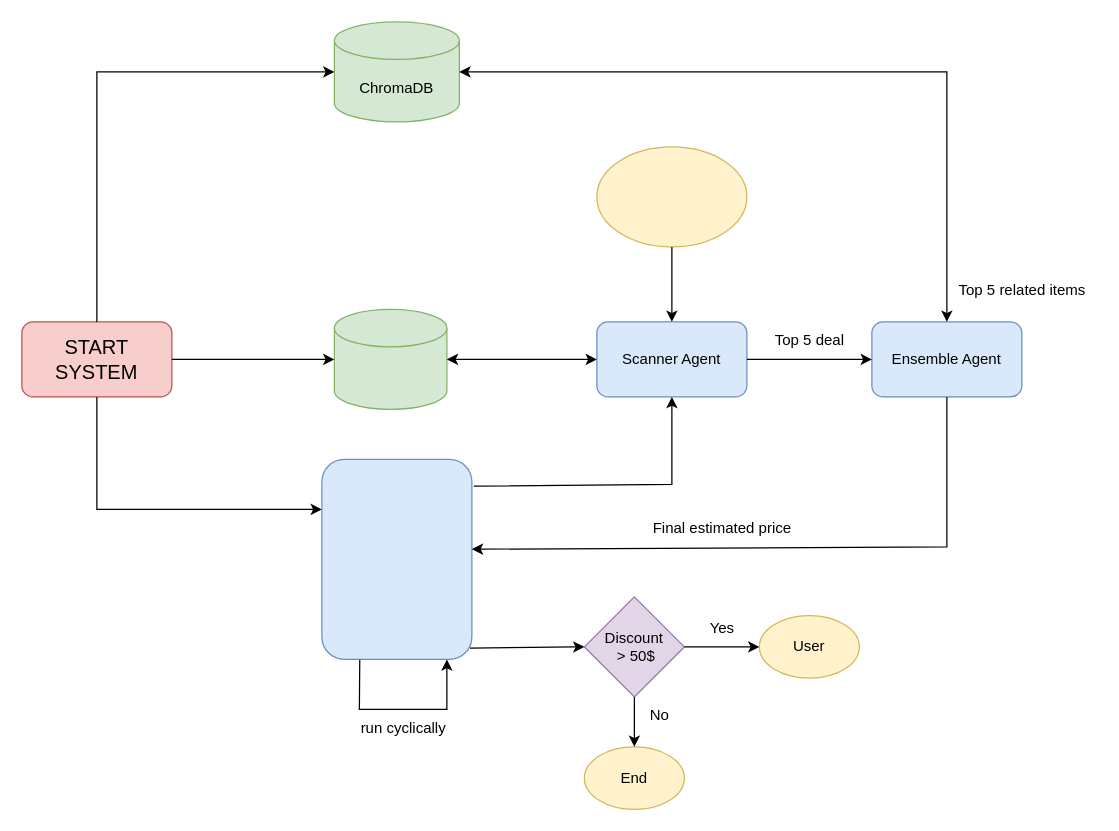
The diagram is 1119 pixels wide and 831 high, and some of its shapes have lost their labels. Each missing label, with the box of its shape:
Dealnews, Amazon, Bestbuy: (596, 146, 747, 247)
Memory: (333, 308, 447, 409)
Planning Agent: (321, 458, 472, 659)
